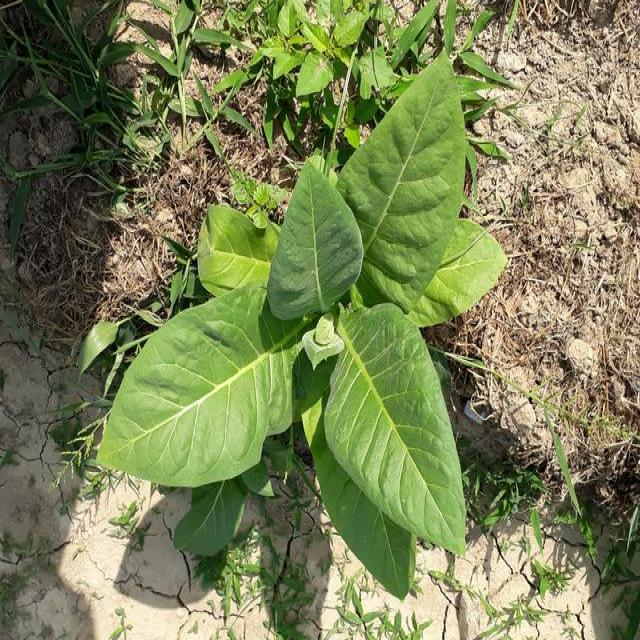crop: (89, 39, 511, 563)
